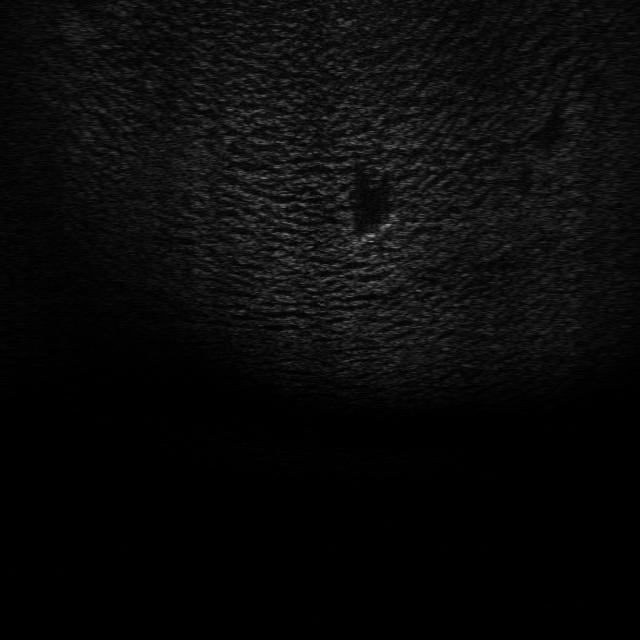plane: (341, 210, 402, 255)
